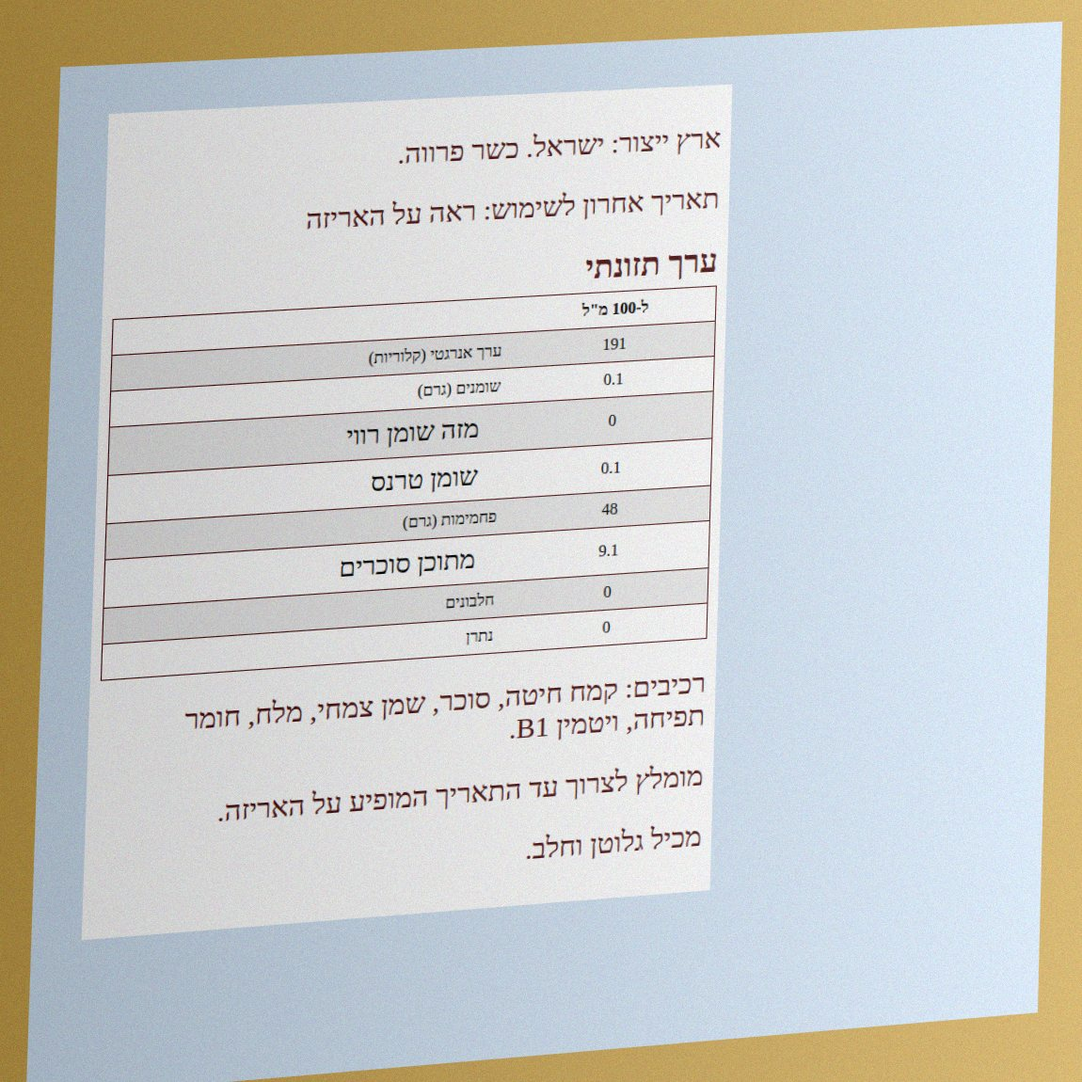carbs: (599, 498, 620, 520)
energy: (600, 332, 629, 355)
fat: (601, 368, 626, 390)
protein: (601, 581, 614, 603)
